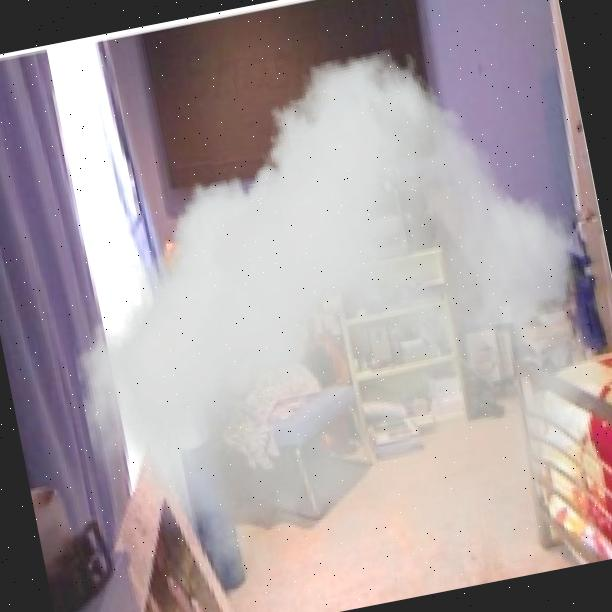smoke: (28, 19, 612, 612)
